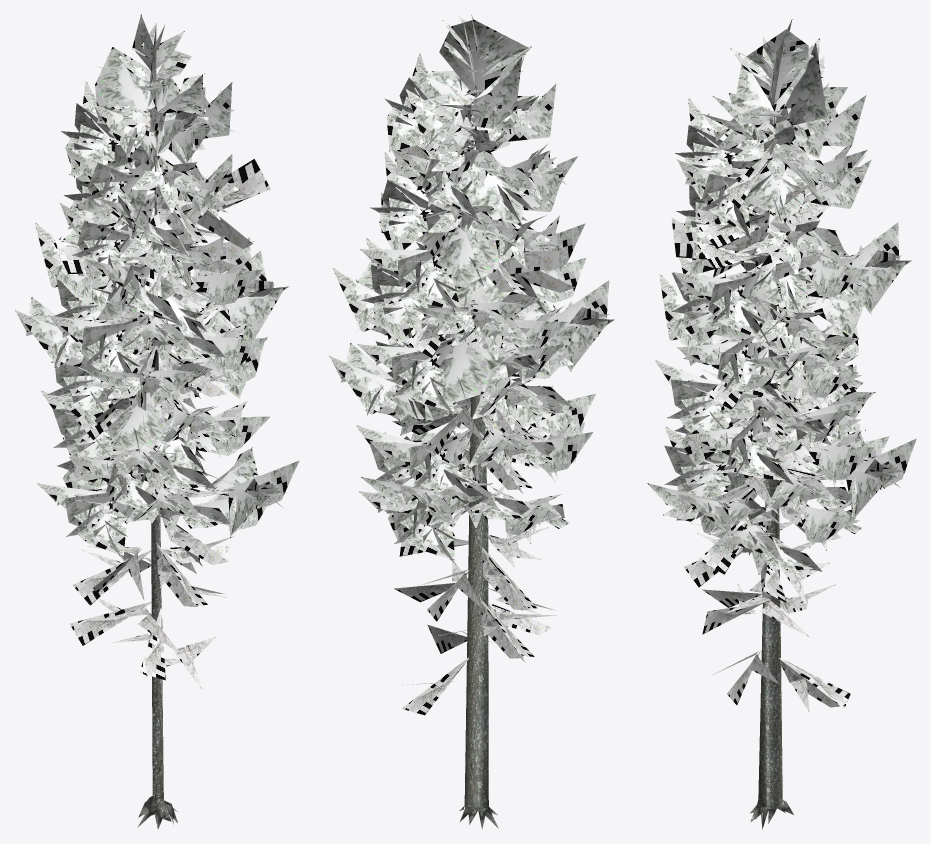
The model's file is arctic-fir-a-mid.glb.
3 renders of one model, left to right at view 1: azimuth 30°, elevation 25°; view 2: azimuth 150°, elevation 25°; view 3: azimuth 270°, elevation 25°, orthographic. The views are drawn at different scales.
Visible parts, largest first — view 1: douglas_fir_a_LOD0; view 2: douglas_fir_a_LOD0; view 3: douglas_fir_a_LOD0.
Boxes of the visible parts, x1,y1,x2,y2 form: douglas_fir_a_LOD0: [14, 14, 299, 829]; douglas_fir_a_LOD0: [329, 15, 614, 829]; douglas_fir_a_LOD0: [647, 19, 916, 829].
Bounding box in the file's own units: 12.76 × 41.54 × 12.77.
Materials: 1 (1 with a texture image).
